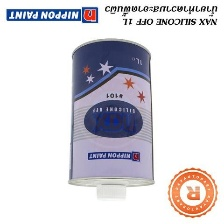cleaning_solution: (66, 35, 158, 204)
